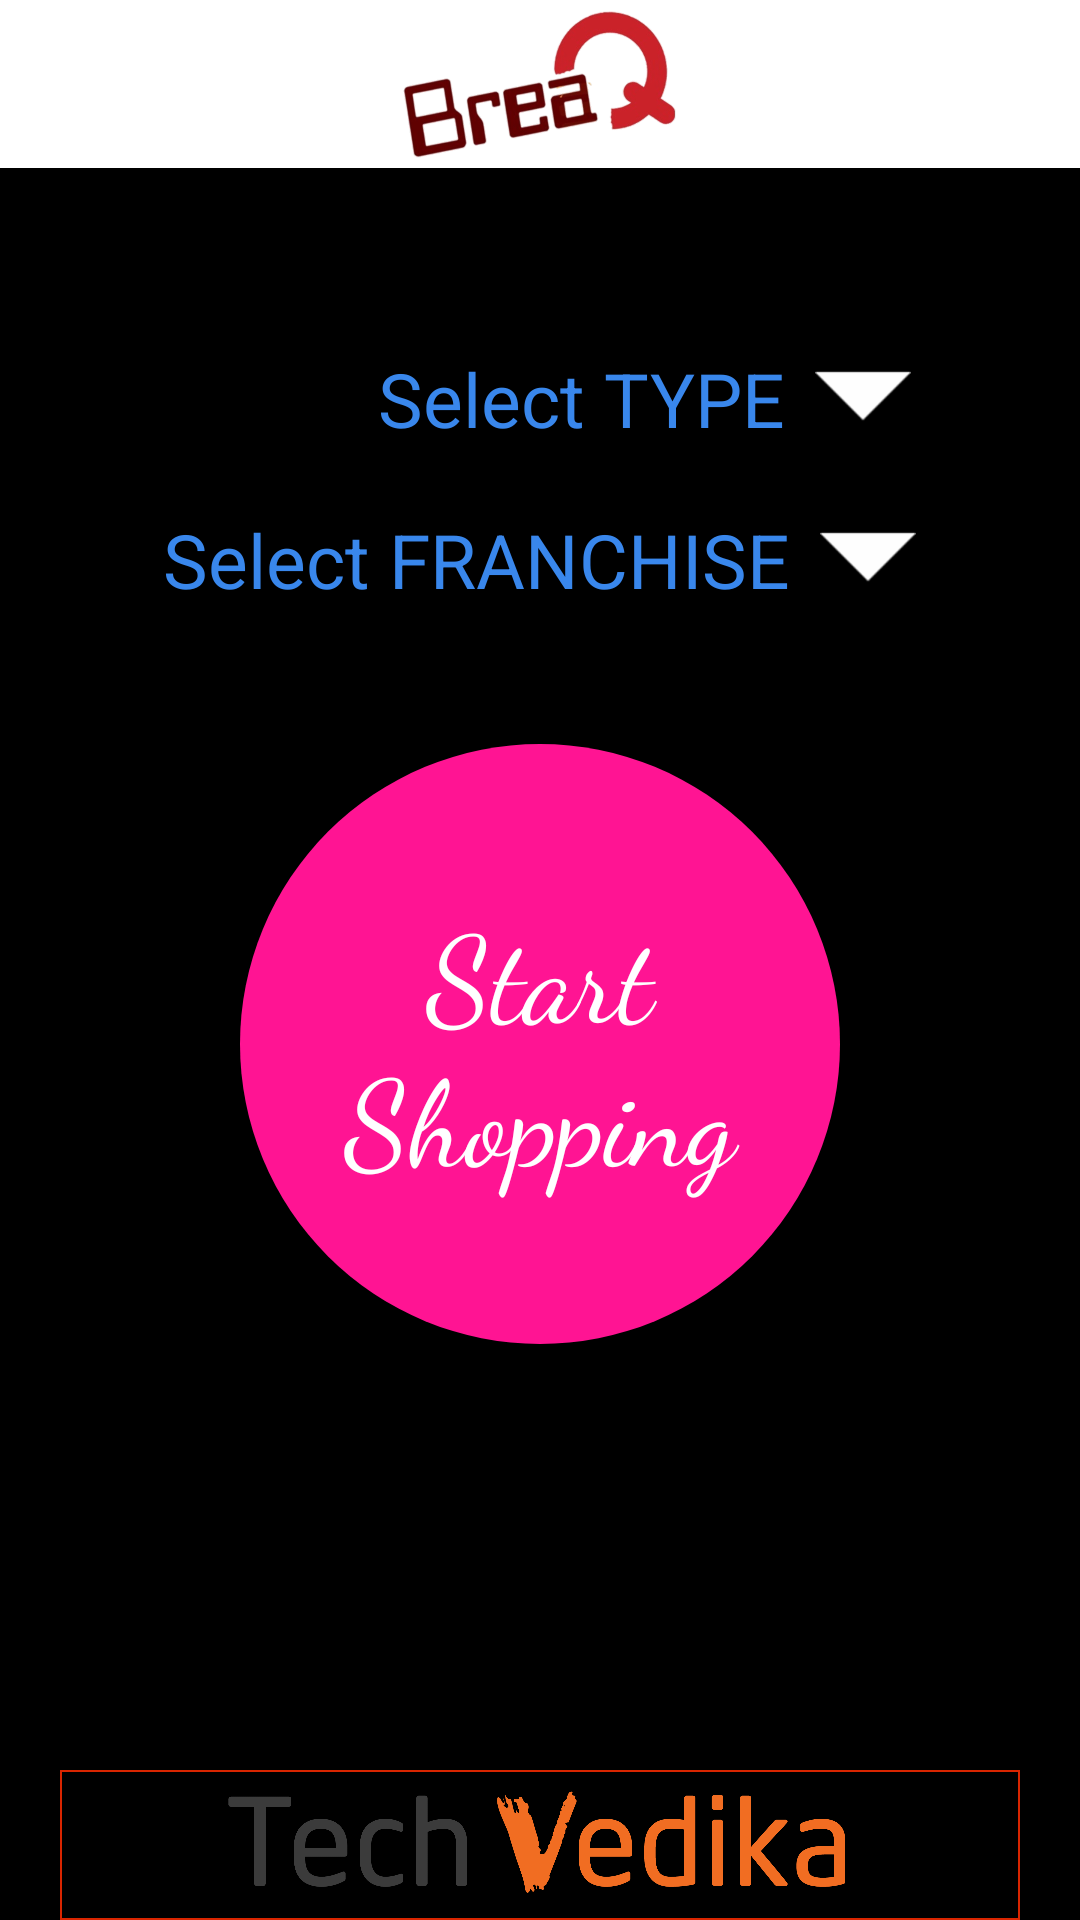

Named icons in this screenshot (1080x1920) and their centers, point (x, y):
drop down arrow: point (863, 395), point (868, 556)
